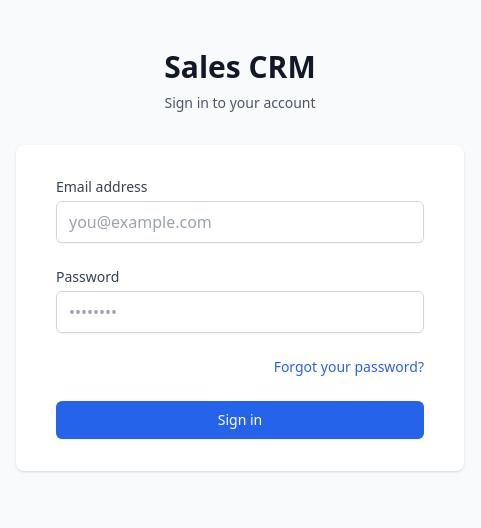
LoginPage › shows generic error for unknown error codes
The width and height of the screenshot is (481, 528).
Type "a@b.com" into the field labelled "Email address".
click(240, 222); type("a@b.com")  # box left=56, top=201, right=424, bottom=243
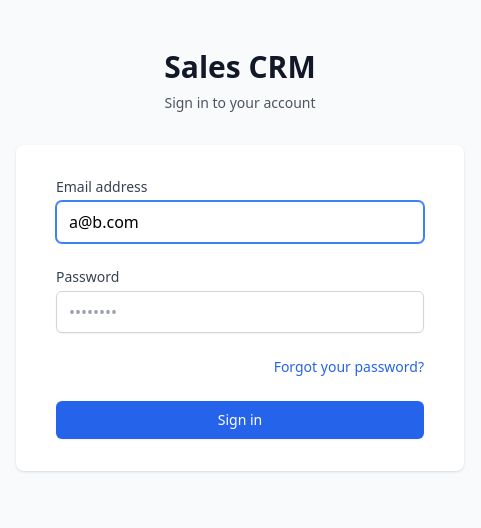
Type "pass" into the password field labelled "Password".
click(240, 312); type("pass")  # box left=56, top=291, right=424, bottom=333
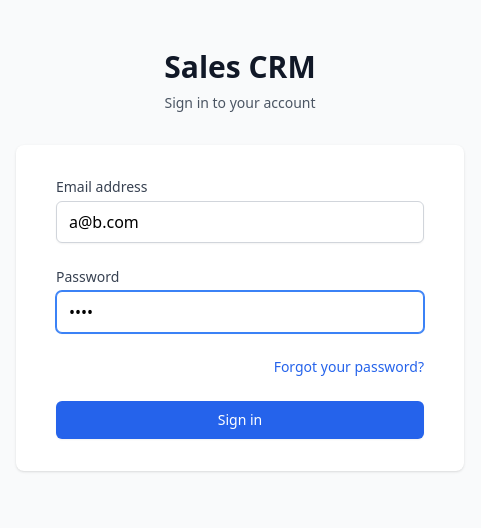
Click the button "Sign in".
click(240, 420)  # box left=56, top=401, right=424, bottom=439
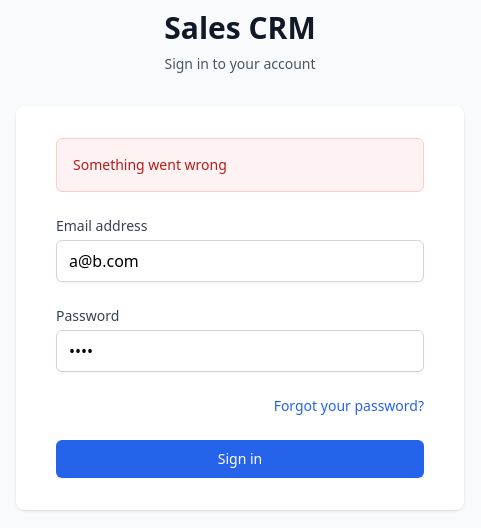
Expected: the message reads "Something went wrong", left=73, top=155, right=227, bottom=174
